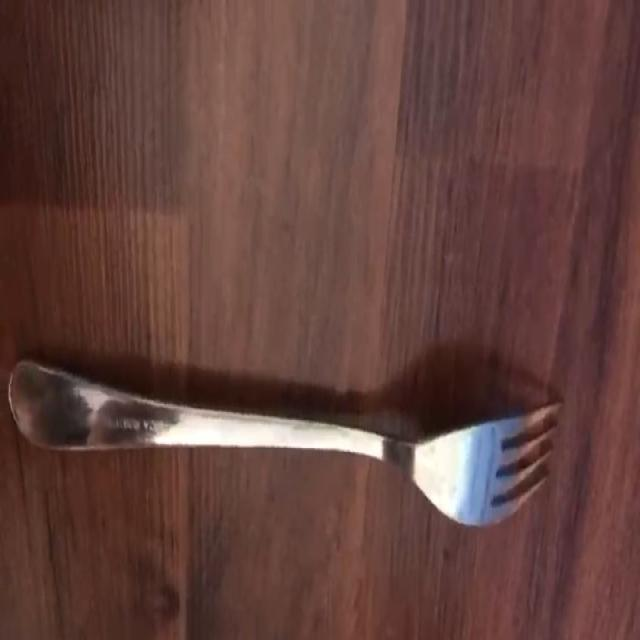spoon: (9, 362, 563, 526)
